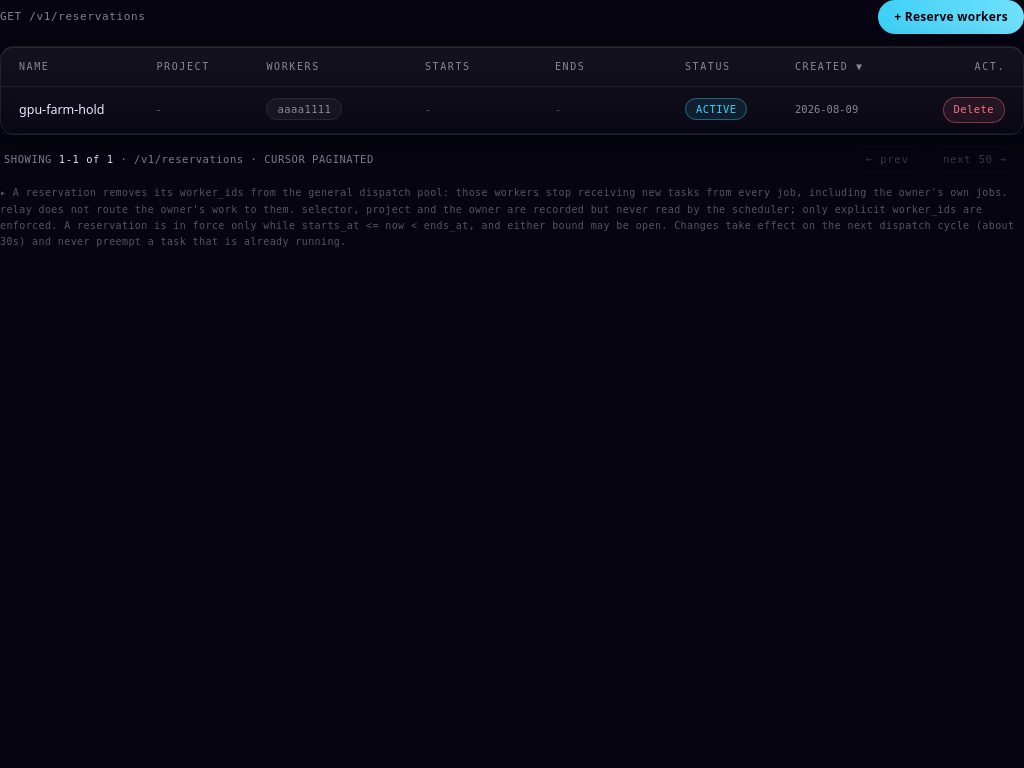
Scenario: the confirm dialog also carries no affinity claim when open
The width and height of the screenshot is (1024, 768).
Expected: the text "gpu-farm-hold" is shown, [19,100,104,119]
Click the button with aria-label "Delete reservation gpu-farm-hold".
click(974, 110)  # box [942,97,1005,123]
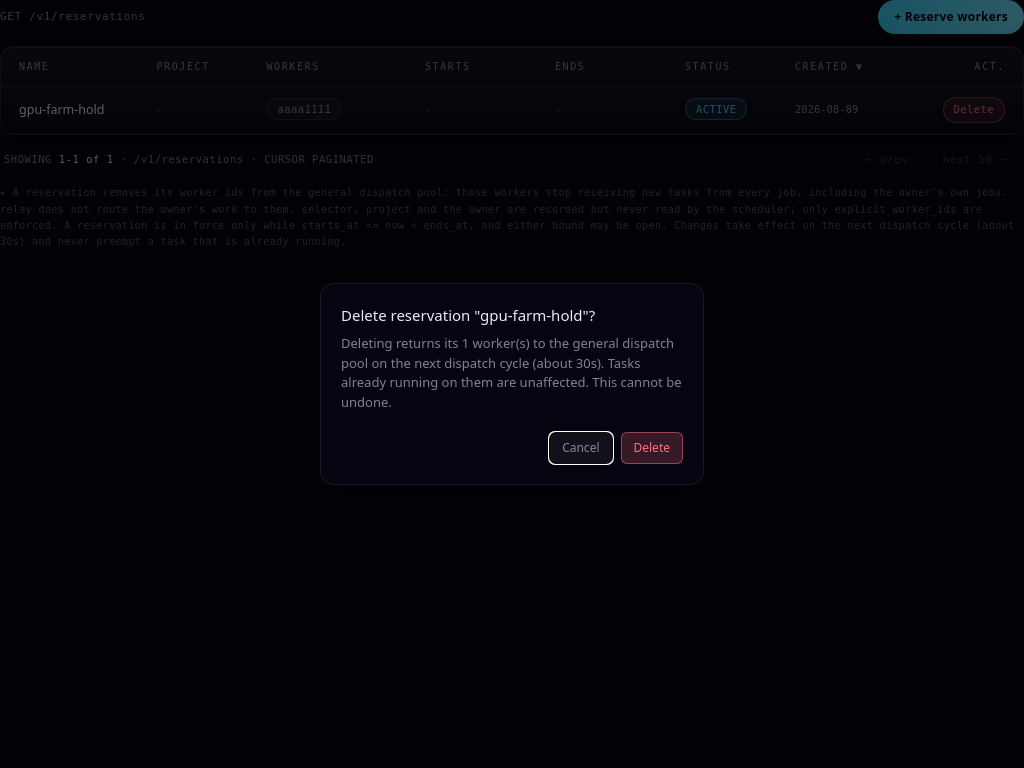
Expected: the dialog is shown, [320,283,704,485]
Expected: the text "tasks already running on them are unaffected" is shown, [341,334,682,411]
